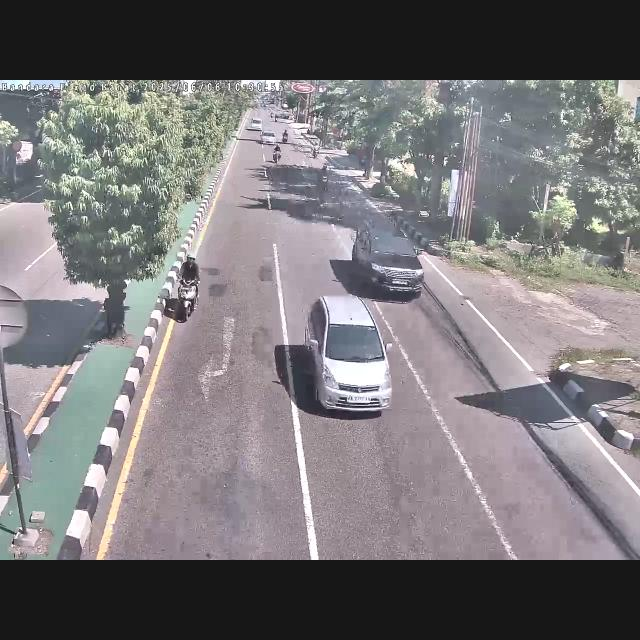Mobil: (303, 294, 395, 420), (353, 215, 429, 298)
Motor: (180, 247, 200, 321)
